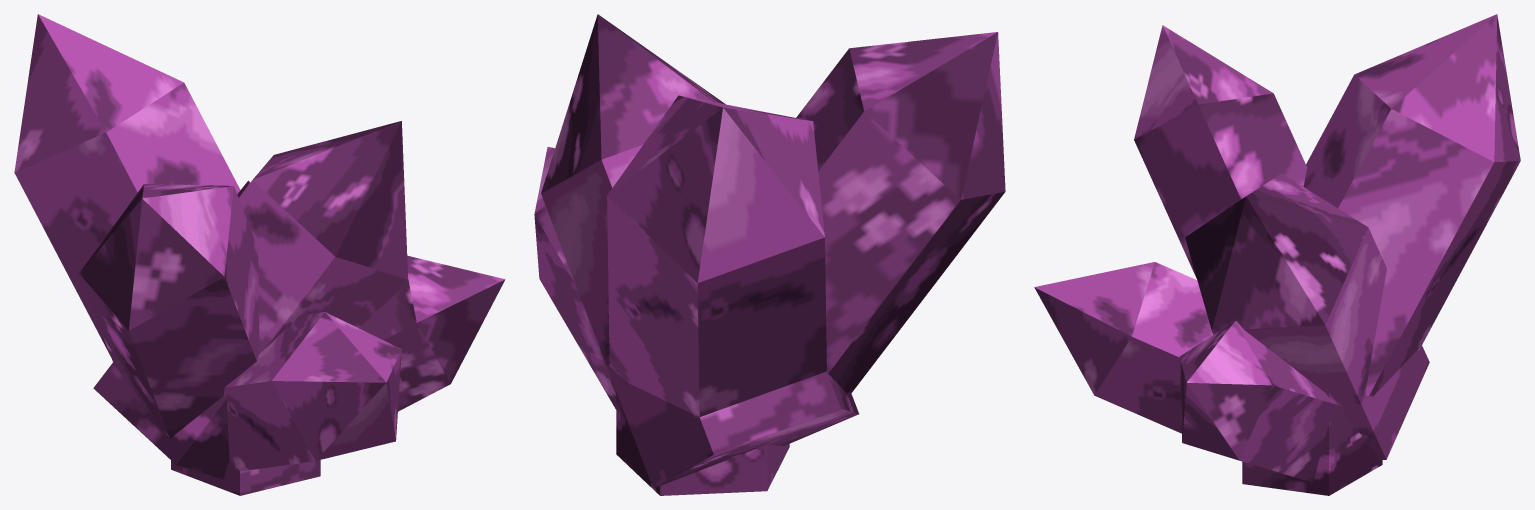
The model's file is crystal 3fbx.fbx.
3 renders of one model, left to right at view 1: azimuth 30°, elevation 25°; view 2: azimuth 150°, elevation 25°; view 3: azimuth 270°, elevation 25°, orthographic. The views are drawn at different scales.
Visible parts, largest first — view 1: Cylinder.016, Cylinder.015; view 2: Cylinder.016, Cylinder.015; view 3: Cylinder.016, Cylinder.015.
Boxes of the visible parts, left/top/right/bottom form: Cylinder.016: left=14, top=14, right=407, bottom=479; Cylinder.015: left=171, top=180, right=505, bottom=495; Cylinder.016: left=541, top=14, right=1005, bottom=488; Cylinder.015: left=534, top=147, right=789, bottom=495; Cylinder.016: left=1134, top=14, right=1520, bottom=460; Cylinder.015: left=1034, top=262, right=1382, bottom=495.
Size of the model in its own units: 915 by 924 by 1005.
